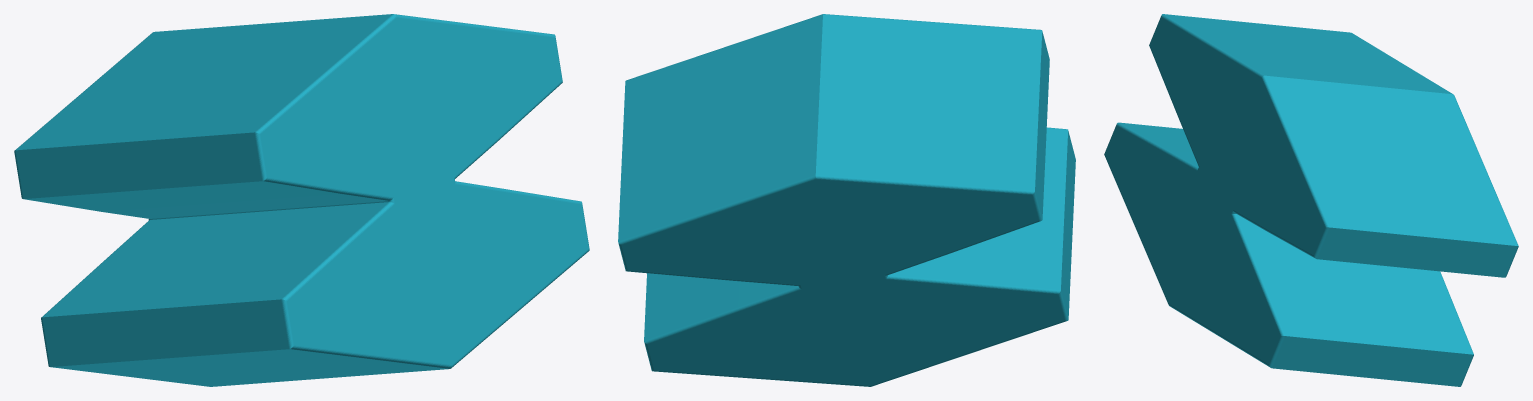
File: LiddWeb.gltf
3 renders of one model, left to right at view 1: azimuth 30°, elevation 25°; view 2: azimuth 150°, elevation 25°; view 3: azimuth 270°, elevation 25°, orthographic. The views are drawn at different scales.
Visible parts, largest first — view 1: Extrude.1; view 2: Extrude.1; view 3: Extrude.1.
Boxes of the visible parts, bbox=[...] form: Extrude.1: bbox=[14, 14, 589, 386]; Extrude.1: bbox=[618, 14, 1075, 386]; Extrude.1: bbox=[1104, 14, 1518, 386].
Bounding box in the file's own units: 24.81 × 17.44 × 22.28.
Materials: 1 (1 with a texture image).
